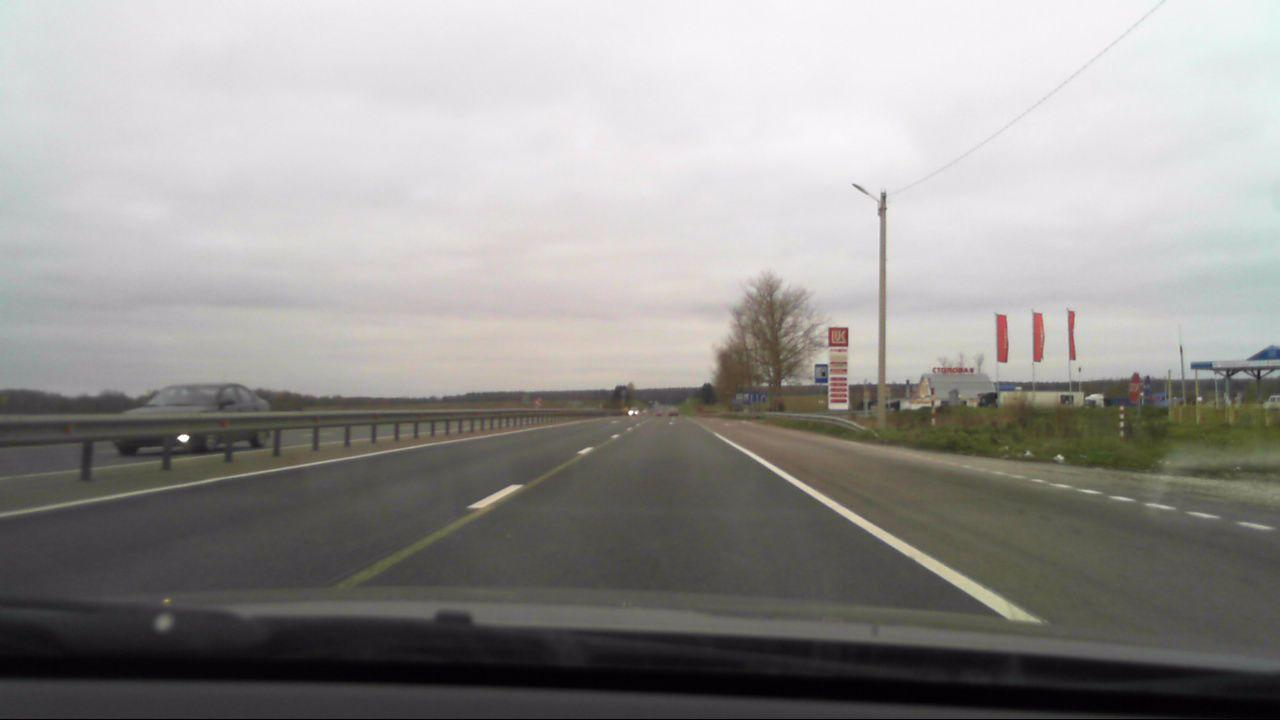7_3: (813, 363, 829, 384)
